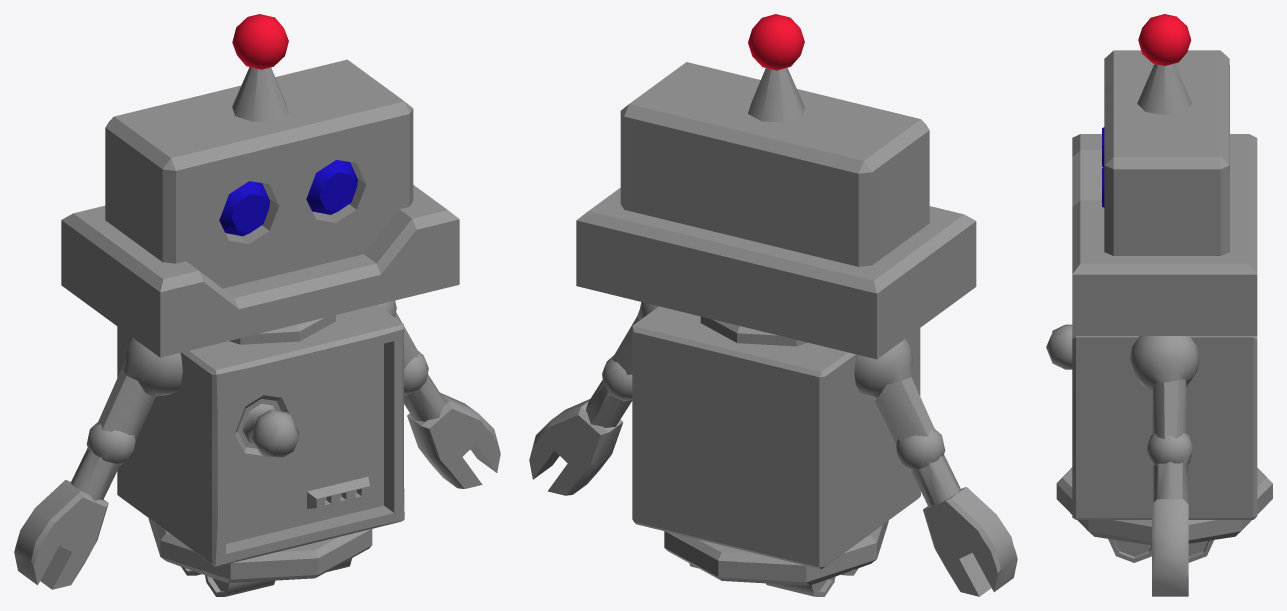
The model's file is Robot4.FBX.
3 renders of one model, left to right at view 1: azimuth 30°, elevation 25°; view 2: azimuth 150°, elevation 25°; view 3: azimuth 270°, elevation 25°, orthographic. The views are drawn at different scales.
Parts seen in each view (by area): view 1: Head, Body, RightArm2, LeftHand, RotaringPlateform, RightArm, Receiver, Antenna, LeftEye, RightEye, Neck, Wheel004; view 2: Head, Body, RightArm2, LeftHand, RotaringPlateform, RightArm, Receiver, Antenna, Neck, LeftArm; view 3: Head, Body, LeftHand, LeftArm, RotaringPlateform, Receiver, Antenna, Wheel001, Wheel002.
Boxes of the visible parts, box(x1,y1,x2,y2) form: Head: box(61, 59, 459, 357); Body: box(117, 305, 404, 566); RightArm2: box(14, 422, 135, 589); LeftHand: box(404, 351, 500, 488); RotaringPlateform: box(148, 518, 372, 583); RightArm: box(97, 337, 182, 439); Receiver: box(232, 14, 288, 69); Antenna: box(232, 67, 288, 121); LeftEye: box(306, 160, 357, 214); RightEye: box(219, 181, 269, 236); Neck: box(229, 315, 335, 344); Wheel004: box(205, 575, 274, 596); Head: box(576, 62, 976, 359); Body: box(632, 306, 920, 569); RightArm2: box(895, 428, 1017, 596); LeftHand: box(529, 355, 632, 495); RotaringPlateform: box(664, 520, 888, 585); RightArm: box(854, 338, 935, 443); Receiver: box(748, 14, 804, 70); Antenna: box(748, 67, 804, 122); Neck: box(700, 316, 807, 346); LeftArm: box(612, 302, 658, 374); Head: box(1072, 50, 1257, 335); Body: box(1046, 324, 1257, 519); LeftHand: box(1146, 433, 1193, 596); LeftArm: box(1130, 336, 1199, 439); RotaringPlateform: box(1056, 467, 1272, 545); Receiver: box(1138, 14, 1191, 65); Antenna: box(1137, 63, 1191, 115); Wheel001: box(1108, 539, 1151, 562); Wheel002: box(1188, 540, 1213, 562).
Bounding box in the file's own units: 61.82 × 69.86 × 27.73.
